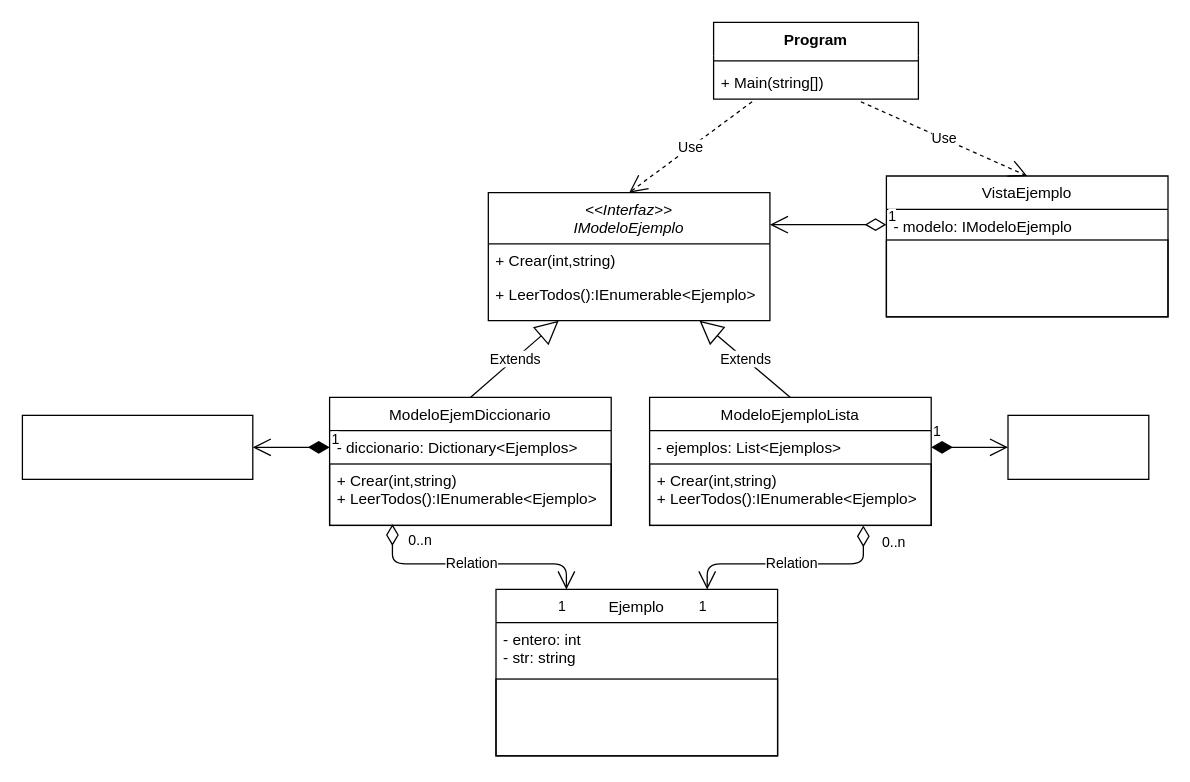
The diagram is 1190 pixels wide and 782 high, and some of its shapes have lost their labels. Here are the shapes that lost their labels. From the top down, the centre of each, then its label:
[1026,278]: + VistaEjemplo(IModeloEjemplo) + AltaEjemplo() + MostrarEjemplo()
[137,446]: Dicctionary<string,Ejemplo>
[1078,446]: List<Ejemplo>
[636,717]: + Ejemplo(int,string) + Str: string + ToString(): string
